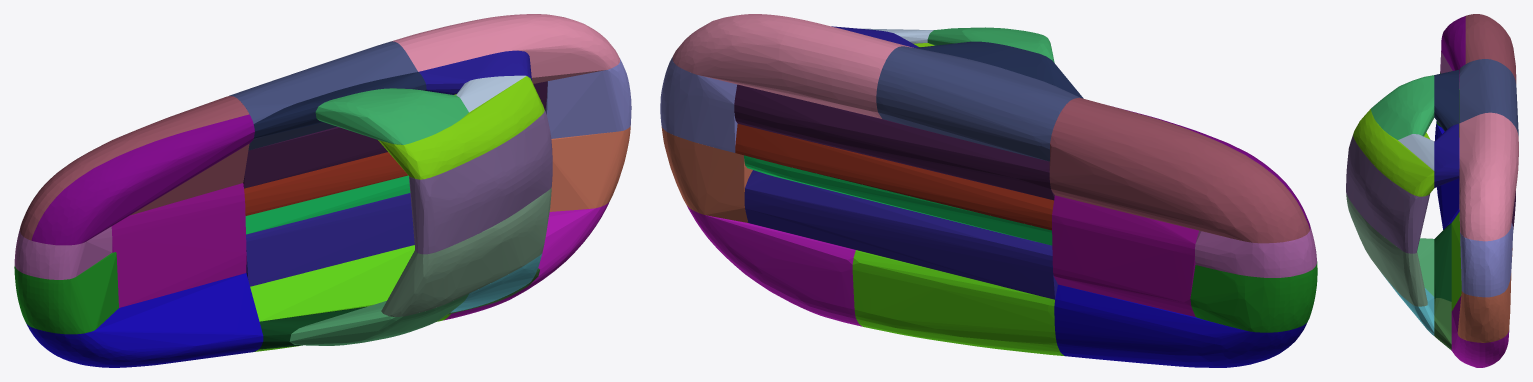
Rendered from coacd_collision.obj.
The picture shows the model from 3 angles, left to right: view 1: azimuth 30°, elevation 25°; view 2: azimuth 150°, elevation 25°; view 3: azimuth 270°, elevation 25°; orthographic projection. The views are drawn at different scales.
Parts seen in each view (by area): view 1: geometry_5, geometry_14, geometry_11, geometry_1, geometry_24, geometry_18, geometry_0, geometry_13, geometry_17, geometry_4, geometry_16, geometry_10 (+14 smaller); view 2: geometry_13, geometry_18, geometry_24, geometry_16, geometry_17, geometry_26, geometry_14, geometry_5, geometry_15, geometry_22, geometry_8, geometry_9 (+7 smaller); view 3: geometry_24, geometry_1, geometry_4, geometry_16, geometry_12, geometry_0, geometry_10, geometry_9, geometry_13, geometry_22, geometry_21, geometry_20 (+9 smaller).
Part boxes in pixels (box(x1,y1,x2,y2)): geometry_5: box(26, 273, 263, 367); geometry_14: box(111, 183, 246, 307); geometry_11: box(31, 114, 254, 245); geometry_1: box(409, 110, 552, 254); geometry_24: box(392, 14, 619, 83); geometry_18: box(246, 193, 414, 286); geometry_0: box(381, 188, 551, 316); geometry_13: box(19, 96, 249, 240); geometry_17: box(250, 245, 450, 351); geometry_4: box(378, 76, 544, 179); geometry_16: box(229, 41, 417, 150); geometry_10: box(315, 88, 468, 144); geometry_13: box(1049, 97, 1309, 243); geometry_18: box(744, 170, 1057, 299); geometry_24: box(672, 14, 913, 118); geometry_16: box(876, 46, 1080, 161); geometry_17: box(852, 250, 1065, 356); geometry_26: box(734, 84, 1054, 200); geometry_14: box(1052, 195, 1198, 316); geometry_5: box(1054, 284, 1307, 367); geometry_15: box(735, 124, 1053, 230); geometry_22: box(687, 206, 862, 326); geometry_8: box(1190, 261, 1317, 332); geometry_9: box(661, 126, 752, 222); geometry_24: box(1459, 112, 1518, 241); geometry_1: box(1346, 134, 1430, 253); geometry_4: box(1353, 109, 1434, 196); geometry_16: box(1459, 59, 1518, 135); geometry_12: box(1460, 223, 1513, 297); geometry_0: box(1346, 194, 1427, 306); geometry_10: box(1371, 75, 1434, 139); geometry_9: box(1457, 273, 1511, 342); geometry_13: box(1465, 14, 1516, 83); geometry_22: box(1451, 295, 1509, 367); geometry_21: box(1434, 70, 1458, 131); geometry_20: box(1434, 124, 1458, 187).
Bounding box in the file's own units: 264 × 114 × 81.12.
